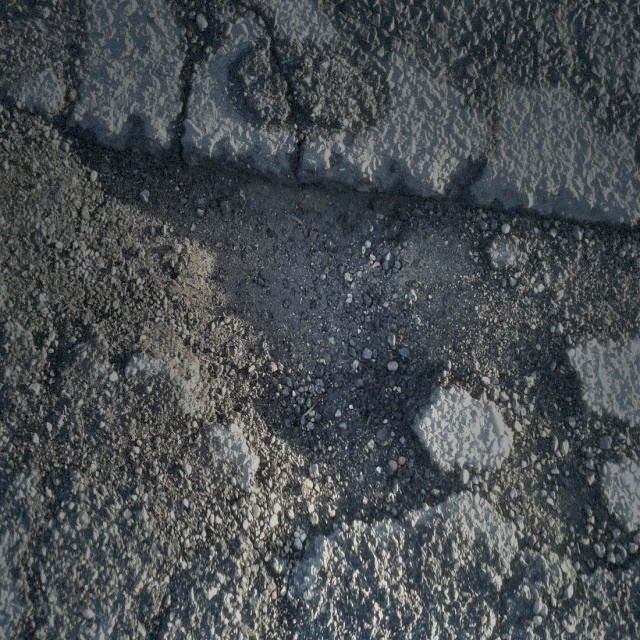pothole: (101, 93, 474, 530)
